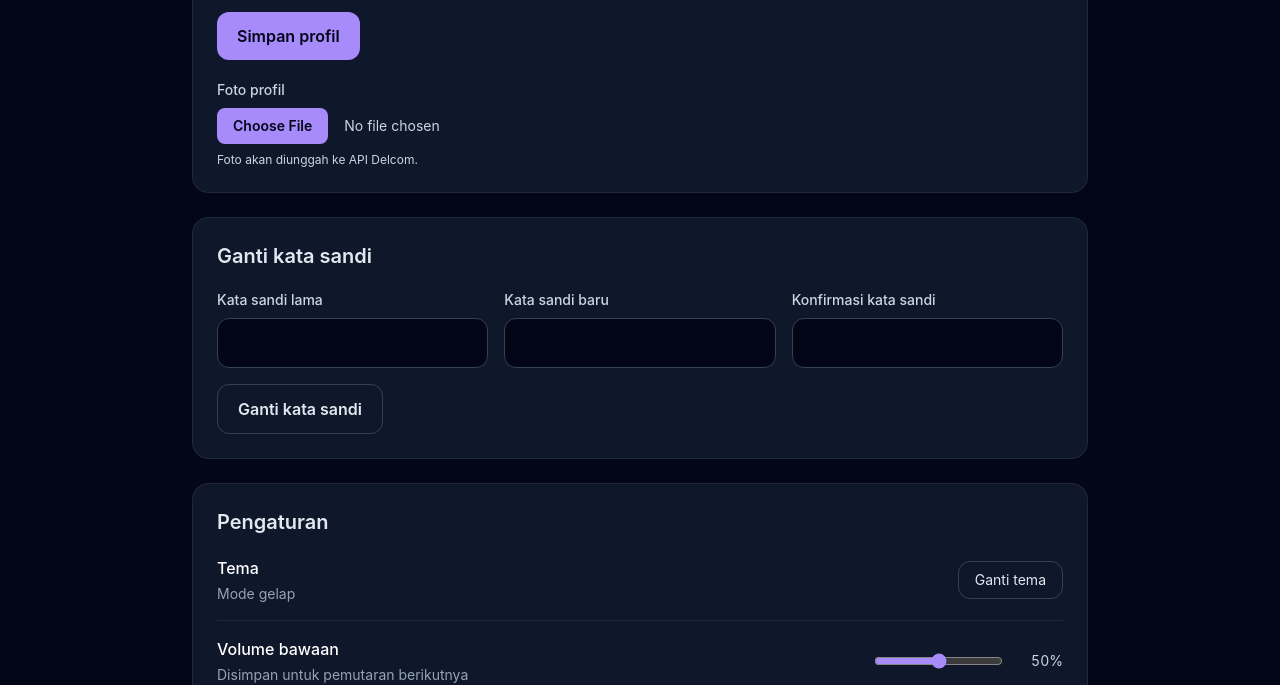
Test: Profile › changes the password and displays a failure returned by the API
The width and height of the screenshot is (1280, 685).
(page scrolled)
In the password field labelled "Kata sandi lama": (353, 343) [217,318,488,368], type "old-pass"
In the password field labelled "Kata sandi baru": (640, 343) [504,318,776,368], type "new-pass"
In the password field labelled "Konfirmasi kata sandi": (927, 343) [792,318,1063,368], type "new-pass"
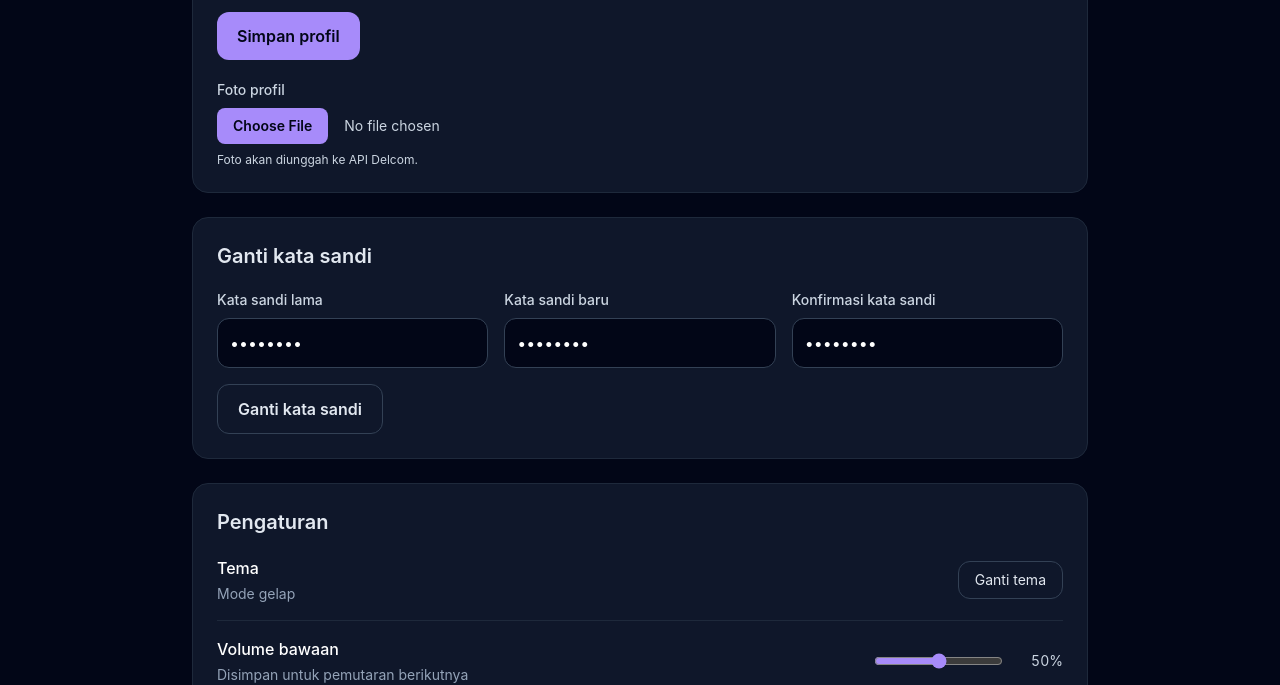
Click the button "Ganti kata sandi": (300, 409) [217,384,383,434]
(page scrolled)
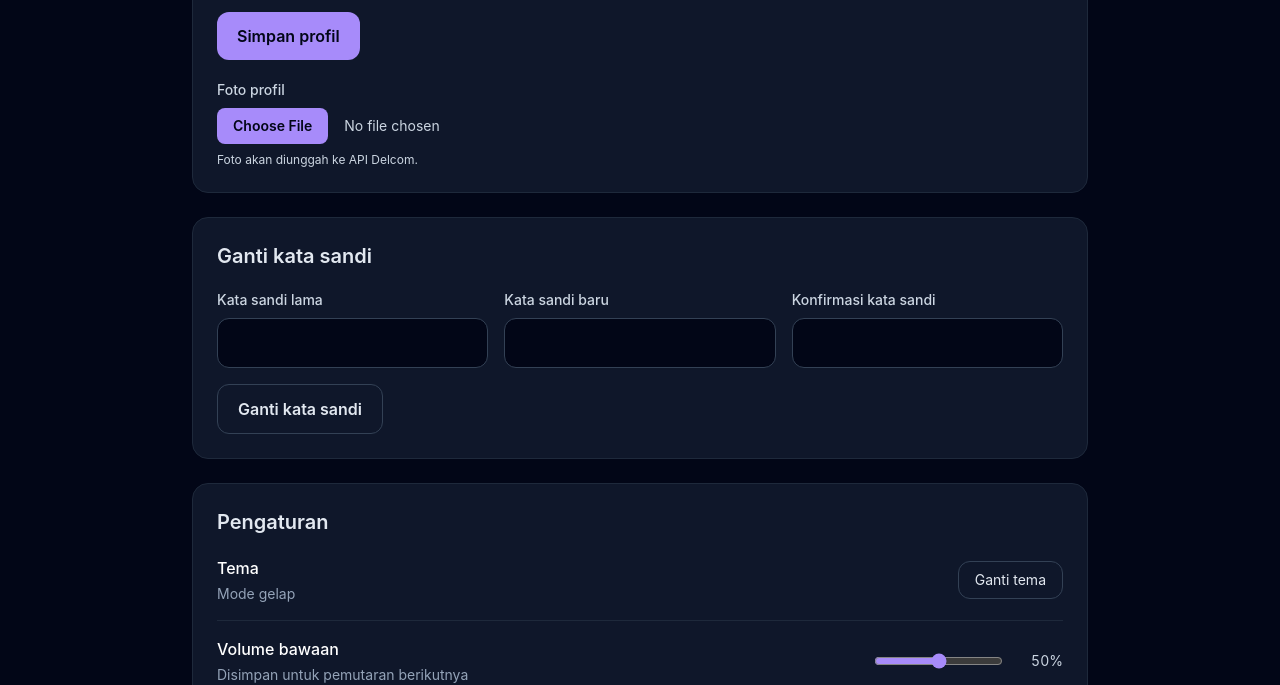
Now the password field labelled "Kata sandi lama" is empty
In the password field labelled "Kata sandi lama": (353, 343) [217,318,488,368], type "wrong"
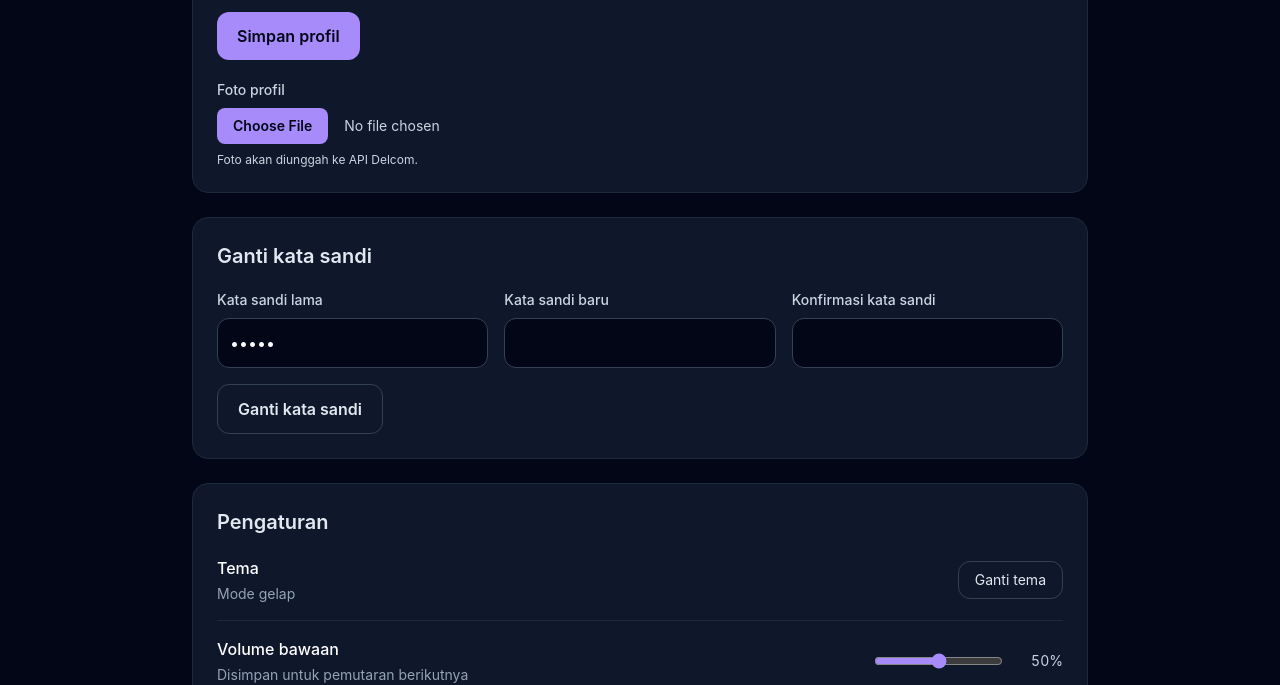
In the password field labelled "Kata sandi baru": (640, 343) [504,318,776,368], type "new-pass"
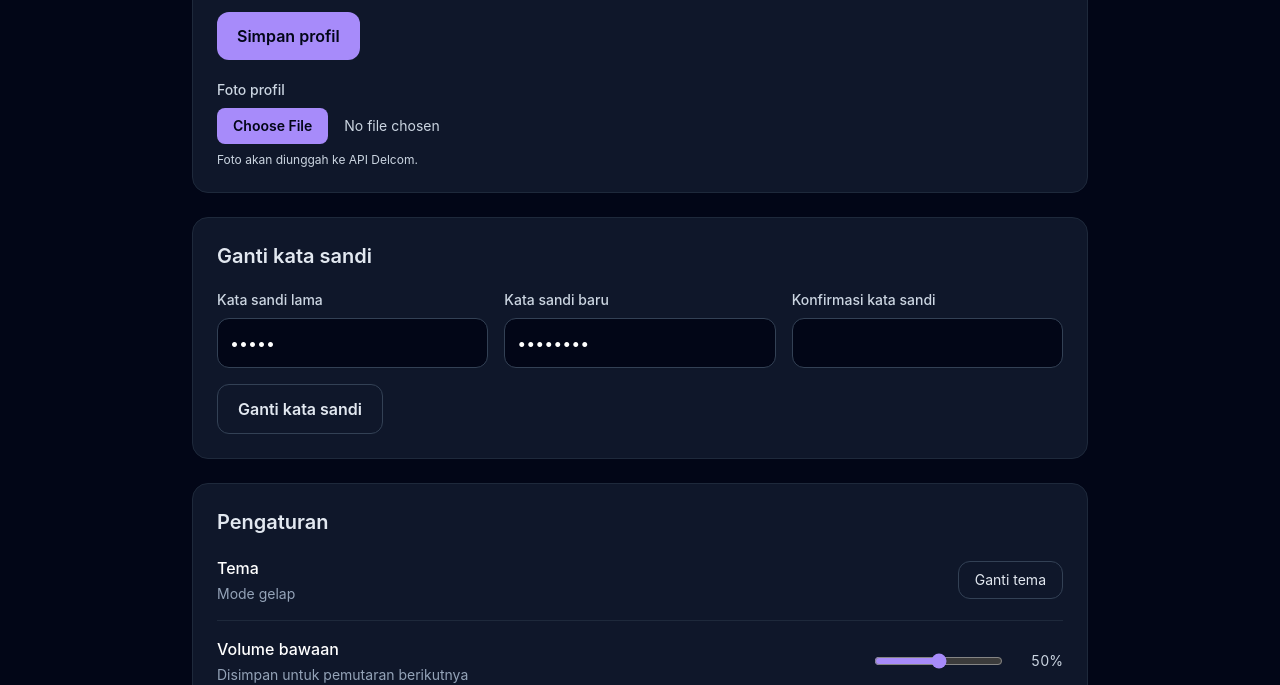
In the password field labelled "Konfirmasi kata sandi": (927, 343) [792,318,1063,368], type "new-pass"
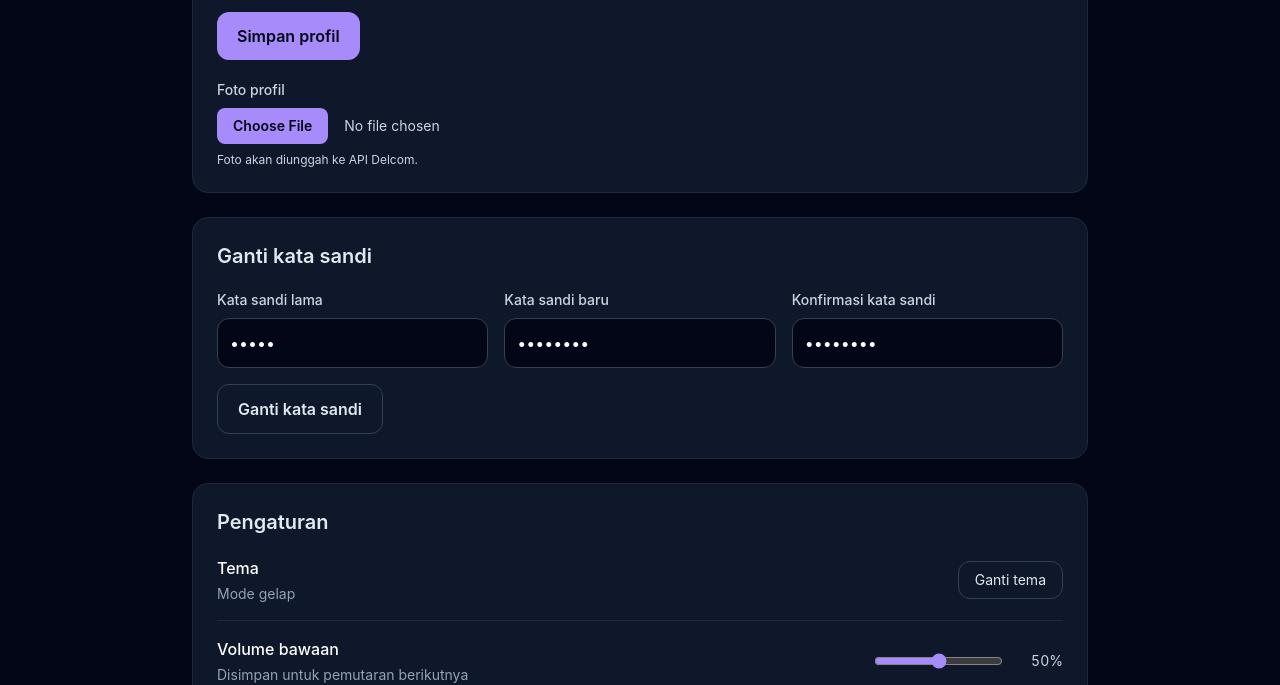
Click the button "Ganti kata sandi": (300, 409) [217,384,383,434]
(page scrolled)
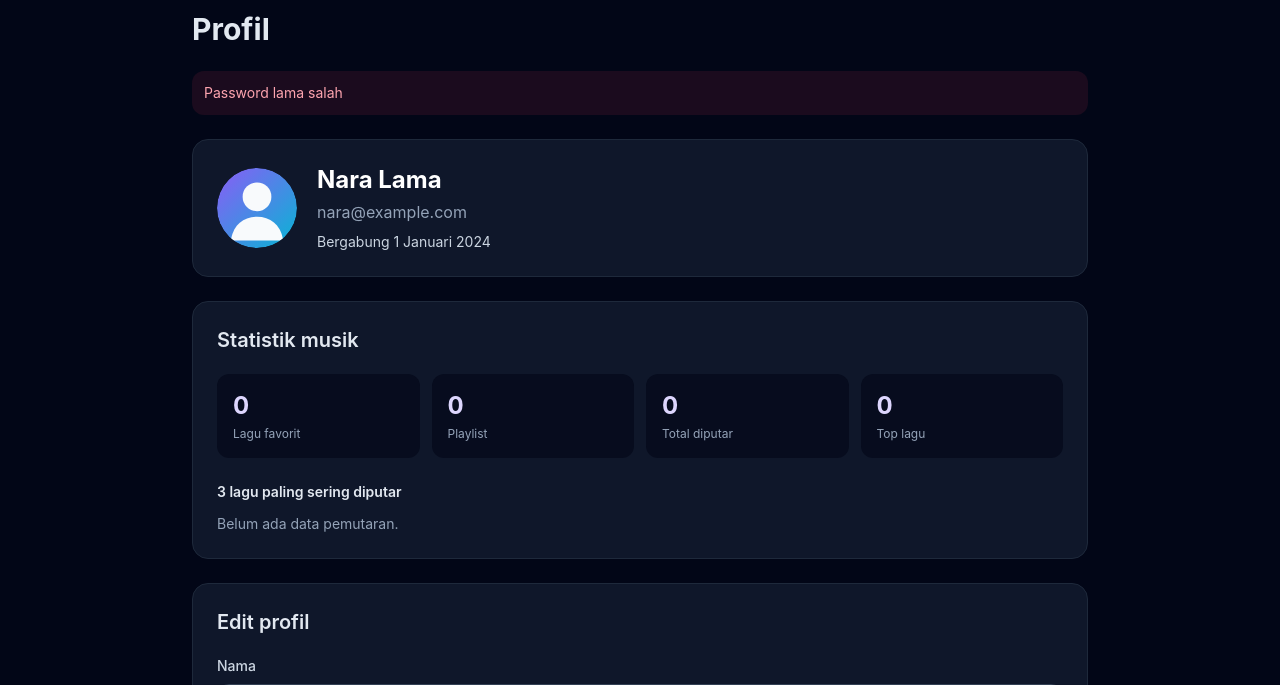
Now the message reads "Password lama salah", box [204,84,343,101]
